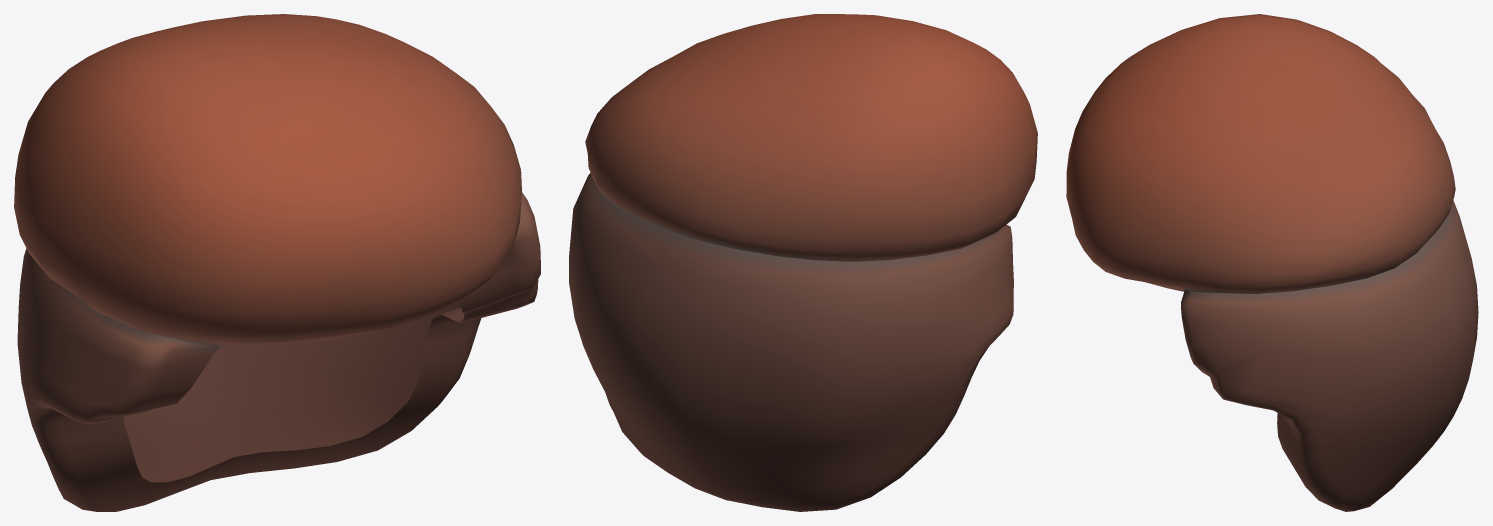
File: Hairstyle_Male_10.glb
3 renders of one model, left to right at view 1: azimuth 30°, elevation 25°; view 2: azimuth 150°, elevation 25°; view 3: azimuth 270°, elevation 25°, orthographic. The views are drawn at different scales.
Parts seen in each view (by area): view 1: Hairstyle_Male_10; view 2: Hairstyle_Male_10; view 3: Hairstyle_Male_10.
Boxes of the visible parts, x1,y1,x2,y2 form: Hairstyle_Male_10: [14, 14, 540, 511]; Hairstyle_Male_10: [569, 14, 1037, 511]; Hairstyle_Male_10: [1066, 14, 1478, 511].
Size of the model in its own units: 0.6312 by 0.6404 by 0.5919.
1 material, 1 textured.
